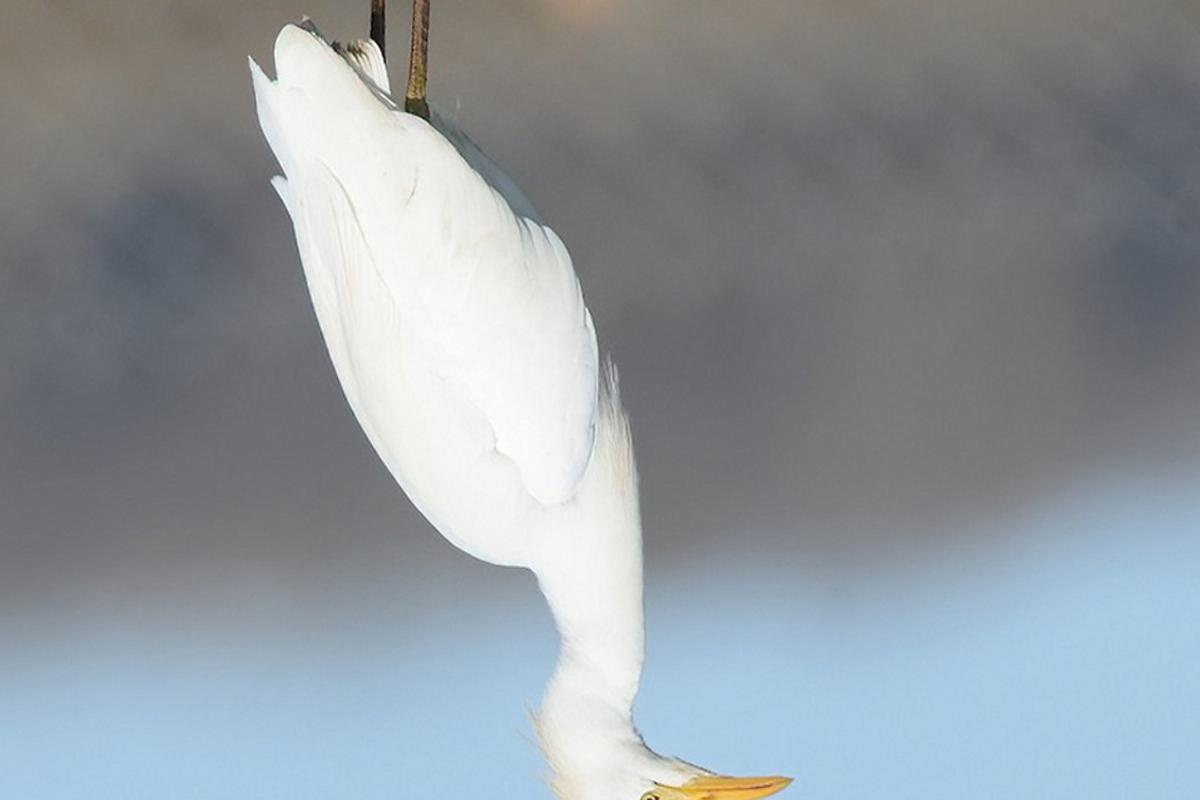egret: (222, 1, 802, 799)
